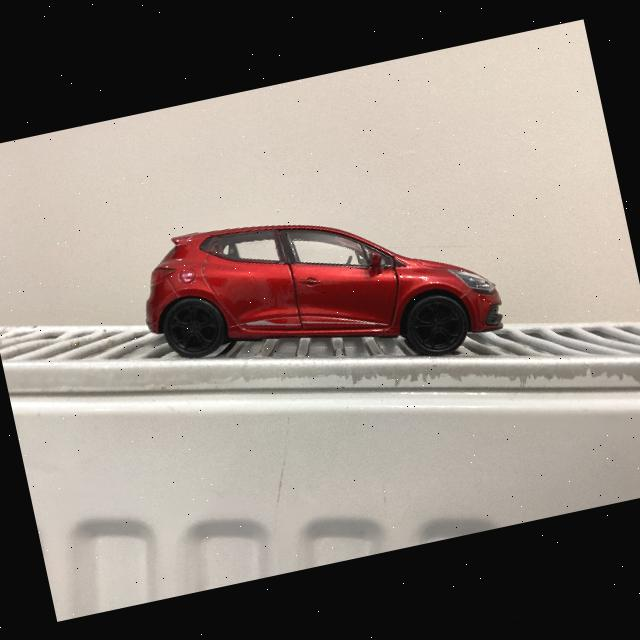Dogru_Jant: (408, 295, 466, 353), (164, 299, 220, 354)
